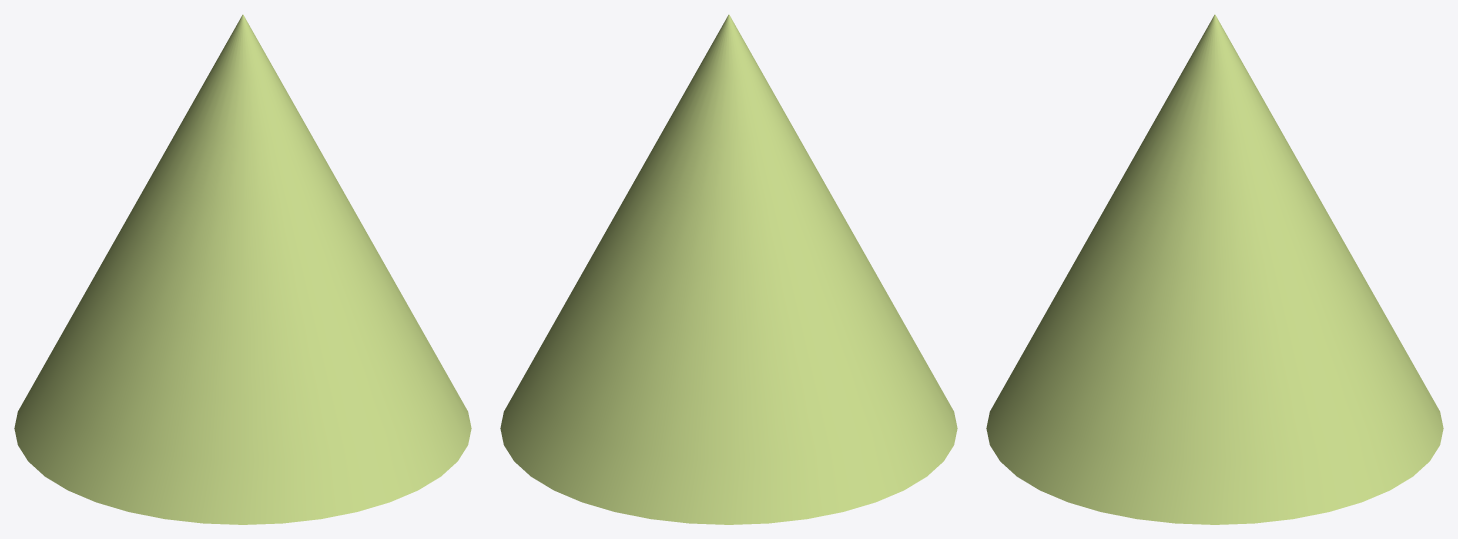
The picture shows the model from 3 angles, left to right: view 1: azimuth 30°, elevation 25°; view 2: azimuth 150°, elevation 25°; view 3: azimuth 270°, elevation 25°; orthographic projection.
Parts seen in each view (by area): view 1: 圆锥; view 2: 圆锥; view 3: 圆锥.
Boxes of the visible parts, x1=… form: 圆锥: x1=14, y1=14, x2=471, y2=524; 圆锥: x1=500, y1=14, x2=957, y2=524; 圆锥: x1=986, y1=14, x2=1443, y2=524.
Size of the model in its own units: 2 by 2 by 2.
